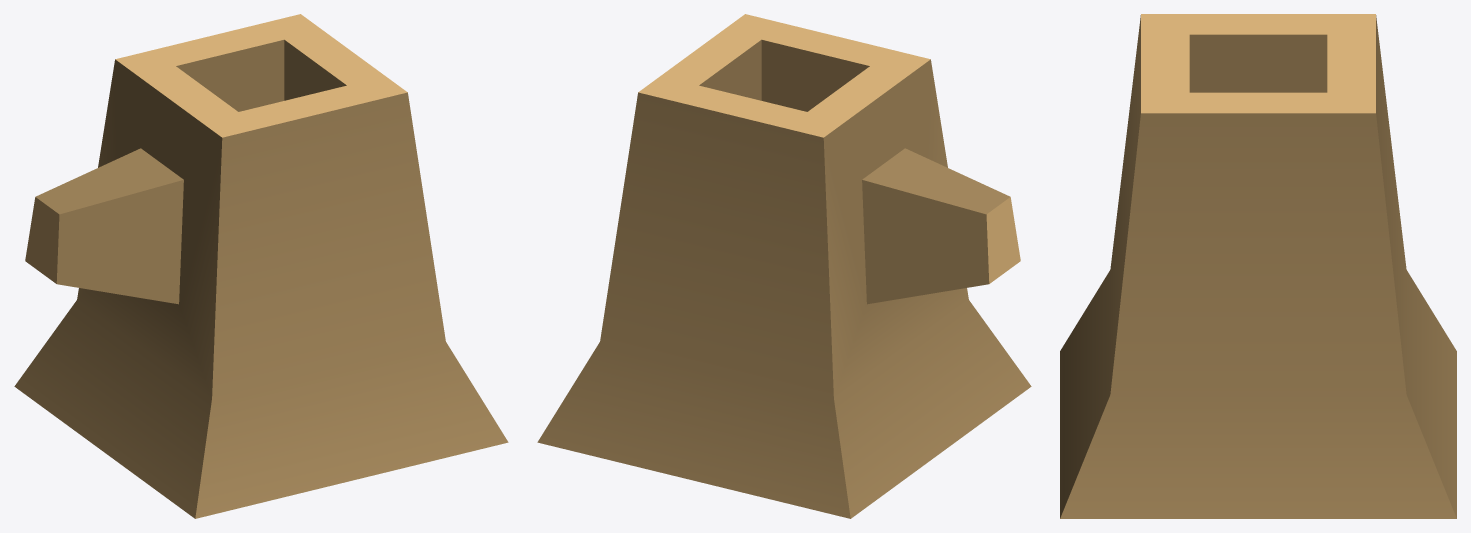
The model's file is Trunk_Alt_01.obj.
3 renders of one model, left to right at view 1: azimuth 30°, elevation 25°; view 2: azimuth 150°, elevation 25°; view 3: azimuth 270°, elevation 25°, orthographic. The views are drawn at different scales.
Parts seen in each view (by area): view 1: Mesh1_Trunk_Alt_Model; view 2: Mesh1_Trunk_Alt_Model; view 3: Mesh1_Trunk_Alt_Model.
Boxes of the visible parts, left/top/right/bottom form: Mesh1_Trunk_Alt_Model: left=14, top=14, right=508, bottom=518; Mesh1_Trunk_Alt_Model: left=537, top=14, right=1031, bottom=518; Mesh1_Trunk_Alt_Model: left=1060, top=14, right=1456, bottom=518.
Size of the model in its own units: 0.9675 by 0.83 by 0.8037.
